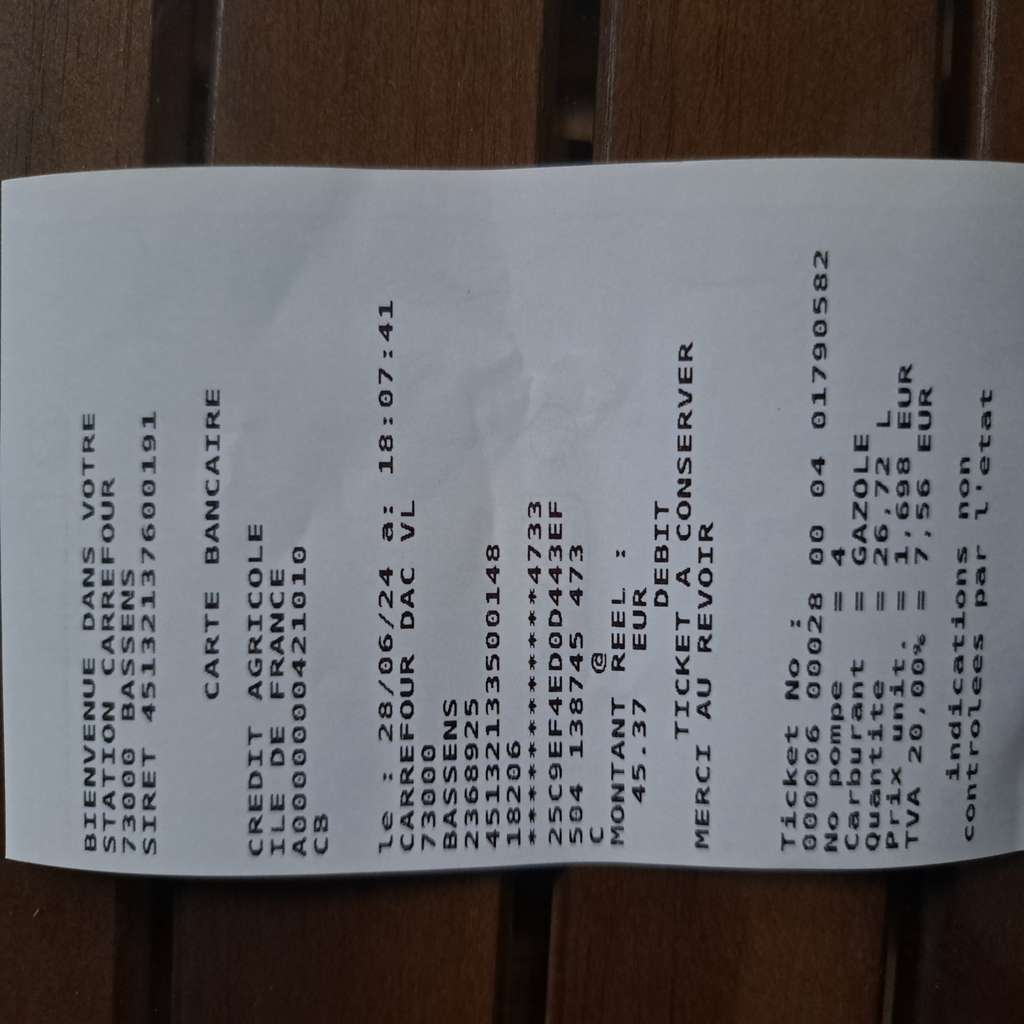recipt: (0, 157, 1022, 877)
